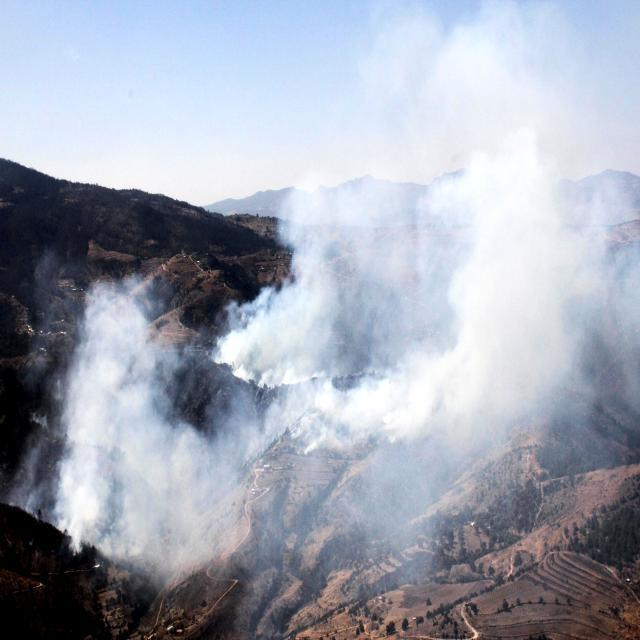Smoke: (29, 282, 538, 608), (228, 0, 640, 370)
